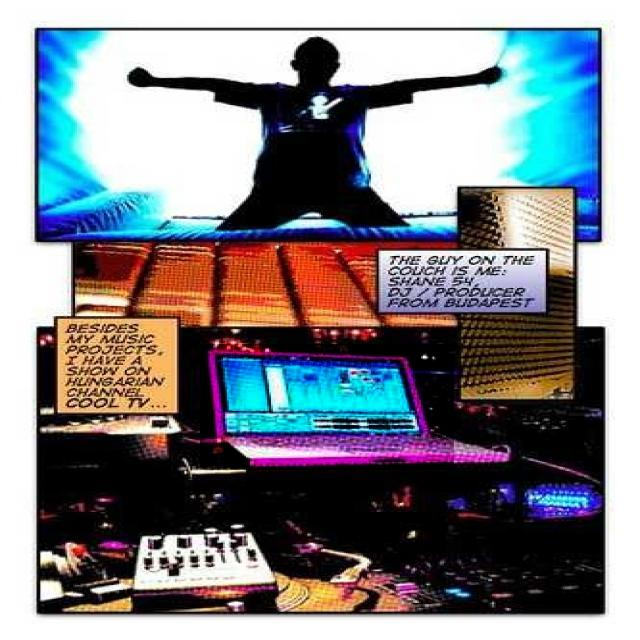-keyboard-: (200, 344, 454, 470)
